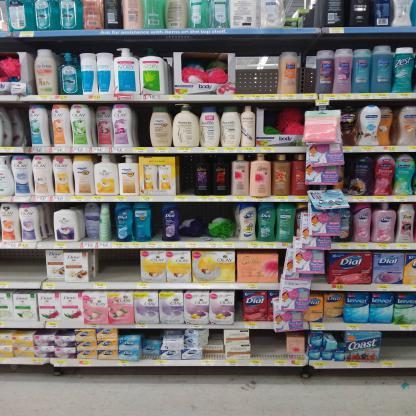Void: (234, 53, 276, 90), (97, 249, 142, 282), (0, 251, 44, 280), (176, 152, 199, 192), (251, 328, 283, 355), (385, 332, 414, 358), (135, 107, 150, 148), (298, 51, 312, 89)
